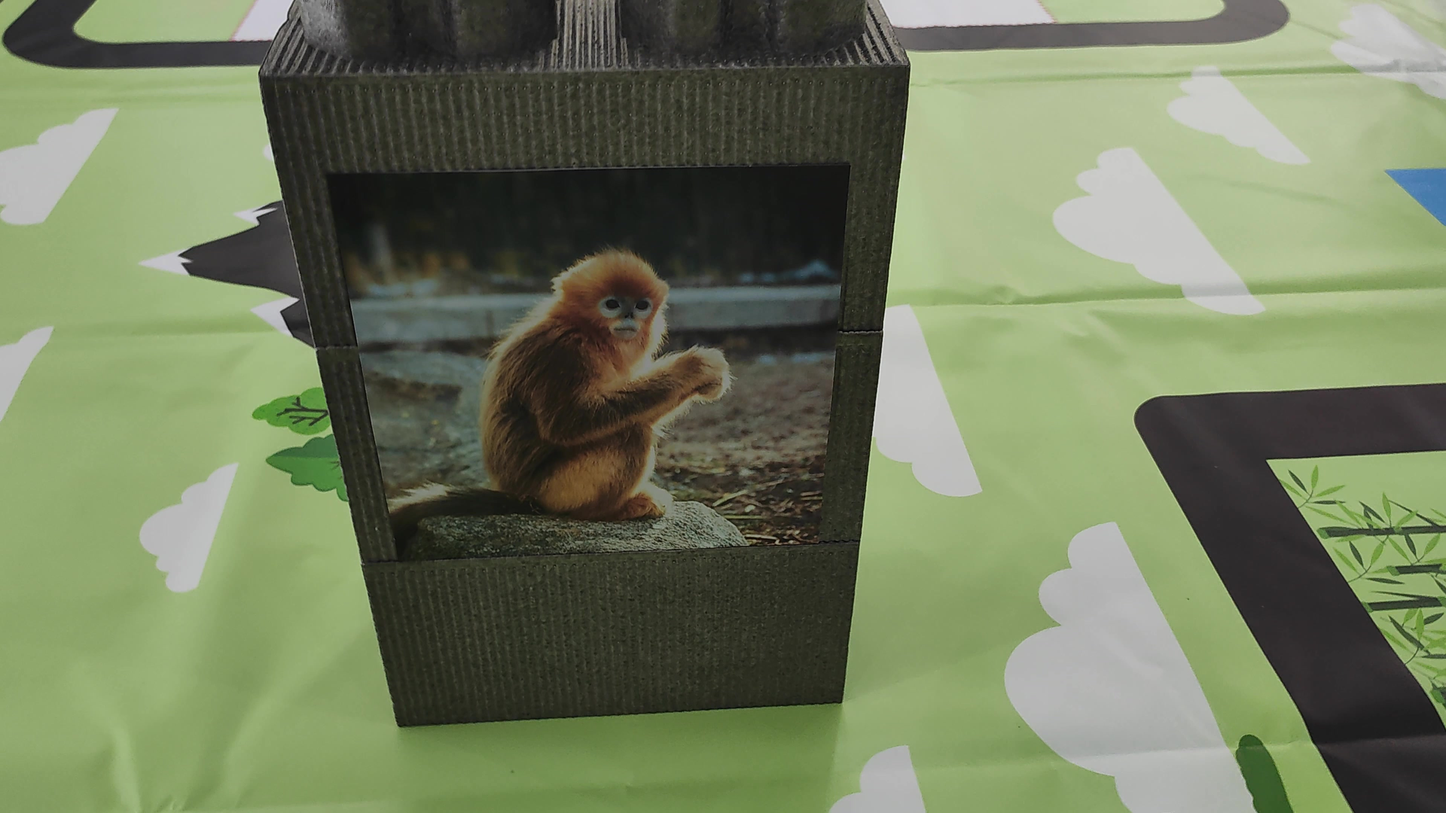monkey: (383, 198, 758, 580)
